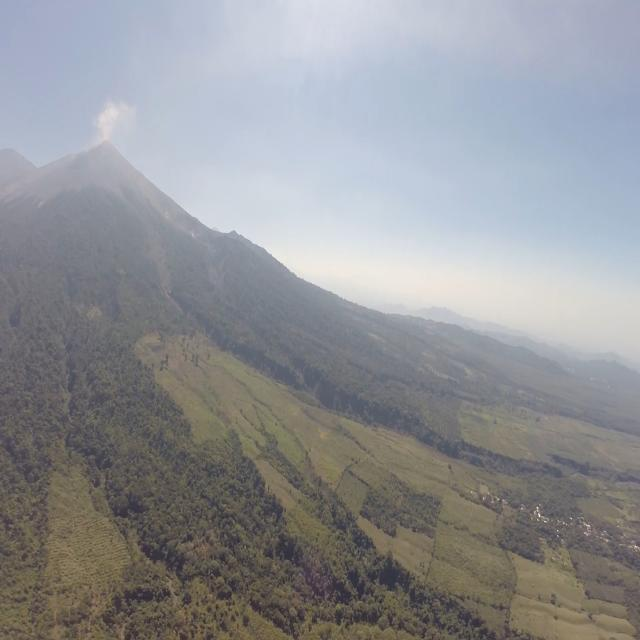Plume: (92, 98, 130, 140)
Summit: (95, 136, 118, 155)
